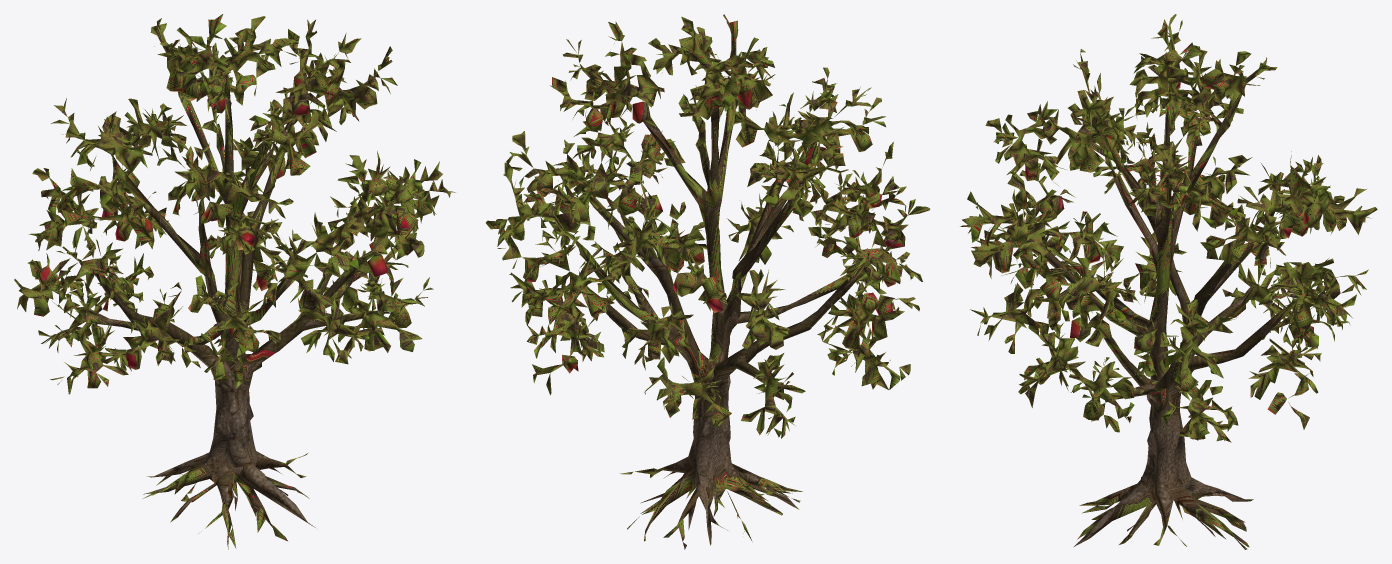
File: apple.glb
3 renders of one model, left to right at view 1: azimuth 30°, elevation 25°; view 2: azimuth 150°, elevation 25°; view 3: azimuth 270°, elevation 25°, orthographic.
Size of the model in its own units: 4.26 by 4.96 by 3.72.
1 material, 1 textured.
